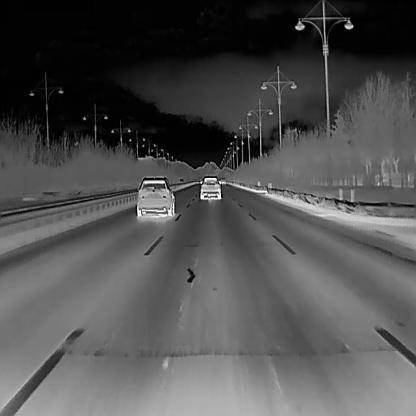car: (135, 175, 174, 217), (198, 175, 221, 199), (219, 176, 224, 184)
